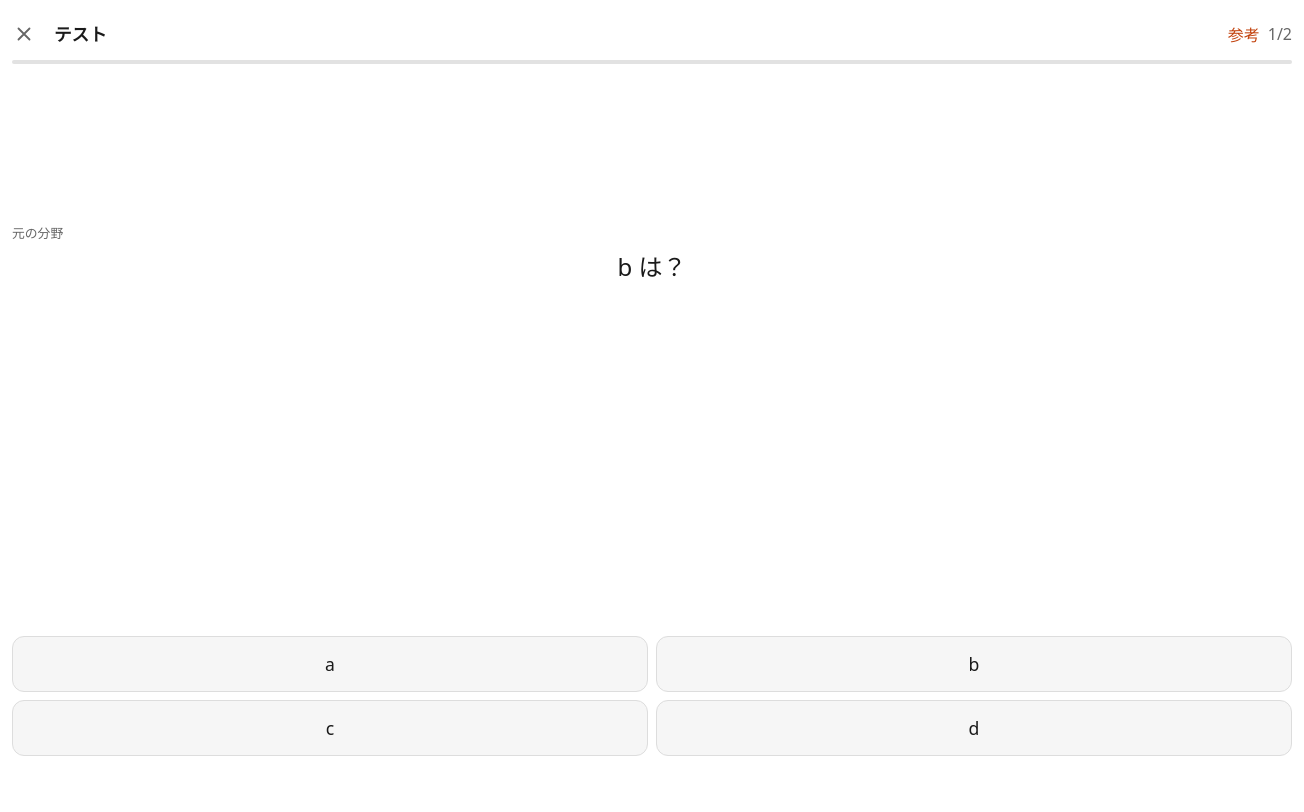
Scenario: Drill › fitSize の分野（今日の復習）は item の数で終わり、記録は recordKey に書く
This screenshot has width=1304, height=812.
Expected: the text "元の分野" is shown, 12,224 -> 63,242
Expected: the button with aria-label "元の分野の参考を見る" is shown, 1228,12 -> 1260,56
Click the button "b" at coordinates (974, 664), box 656,636 -> 1292,692
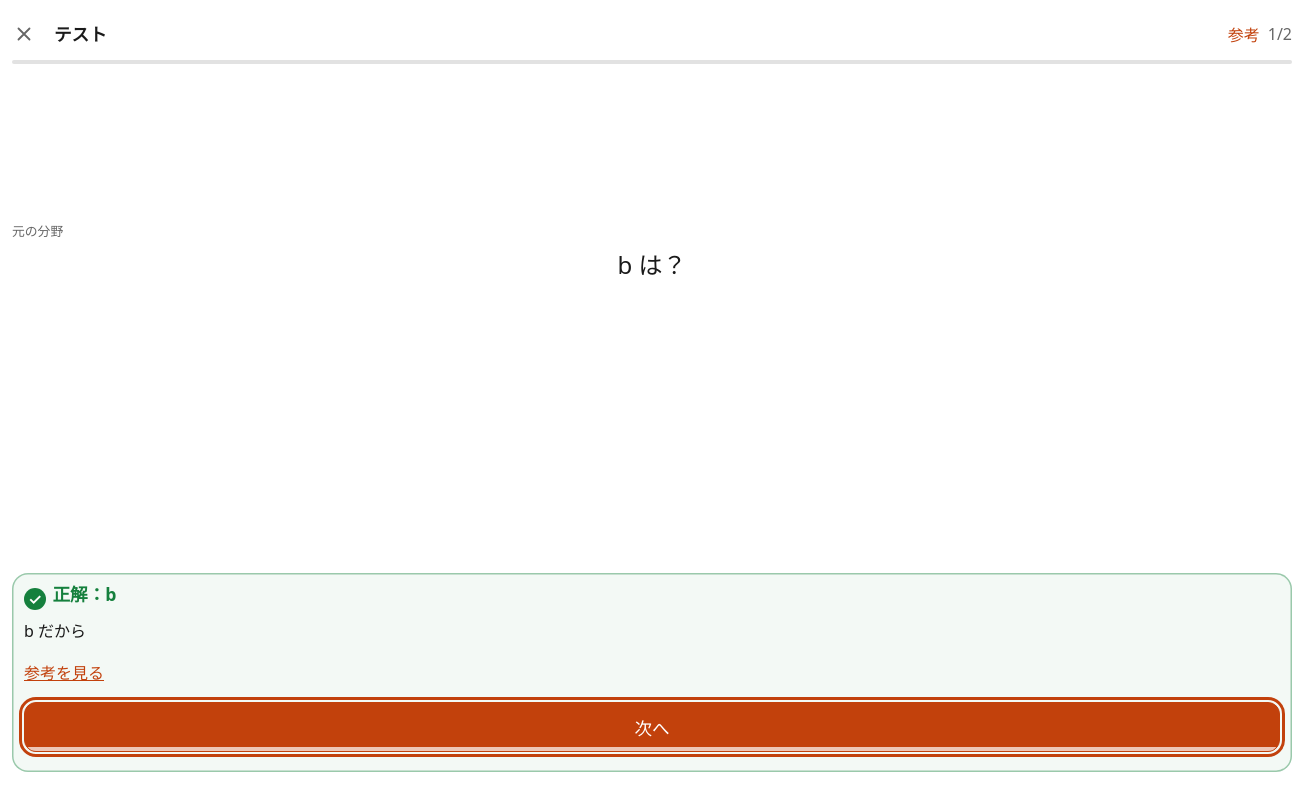
Click the button "次へ" at coordinates (652, 727), box 24,702 -> 1280,752
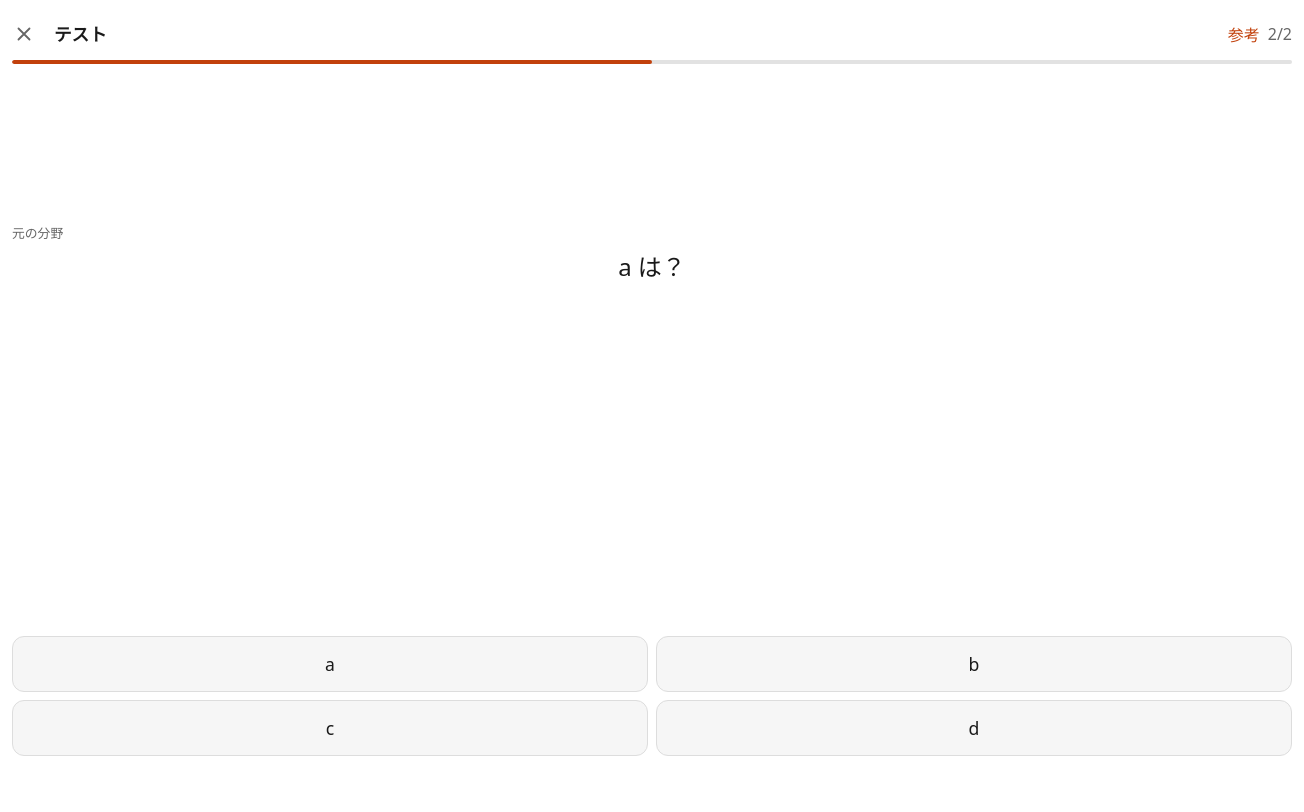
Click the button "a" at coordinates (330, 664), box 12,636 -> 648,692
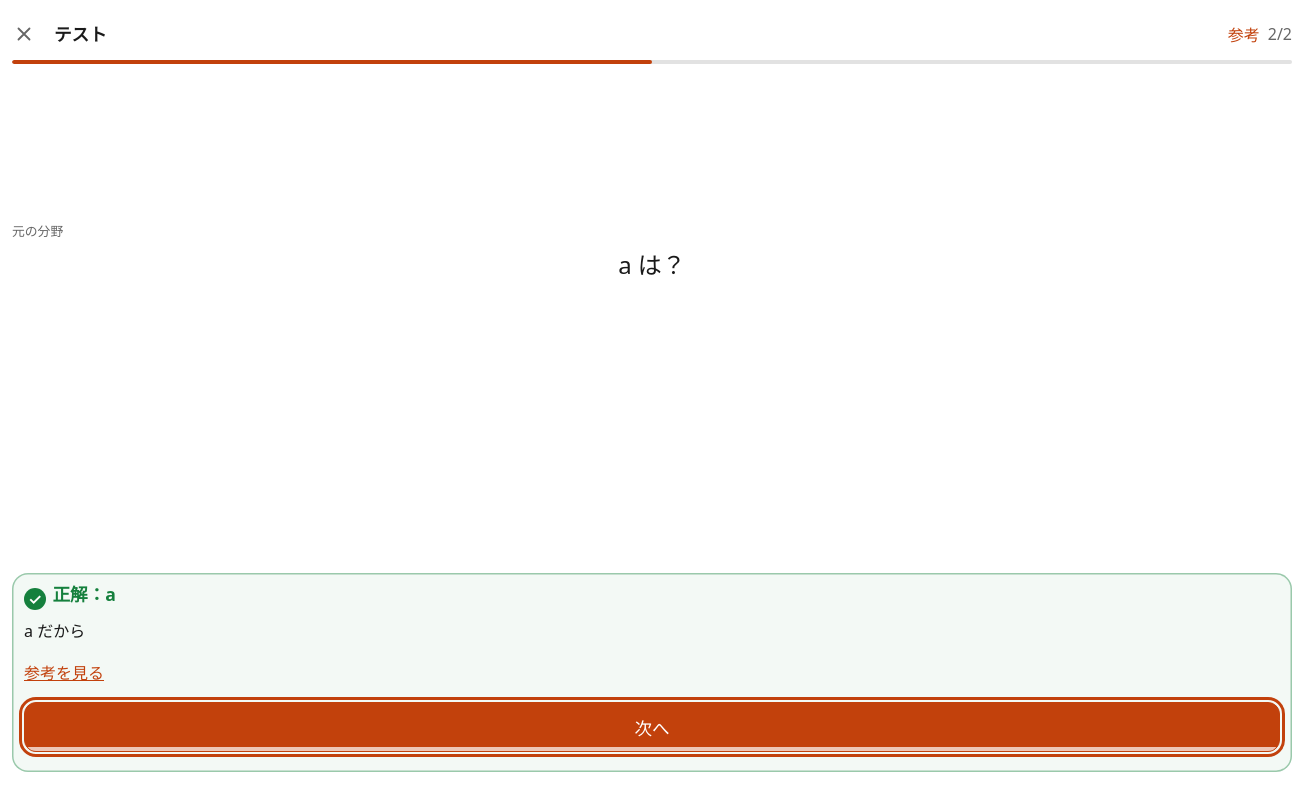
Click the button "次へ" at coordinates (652, 727), box 24,702 -> 1280,752
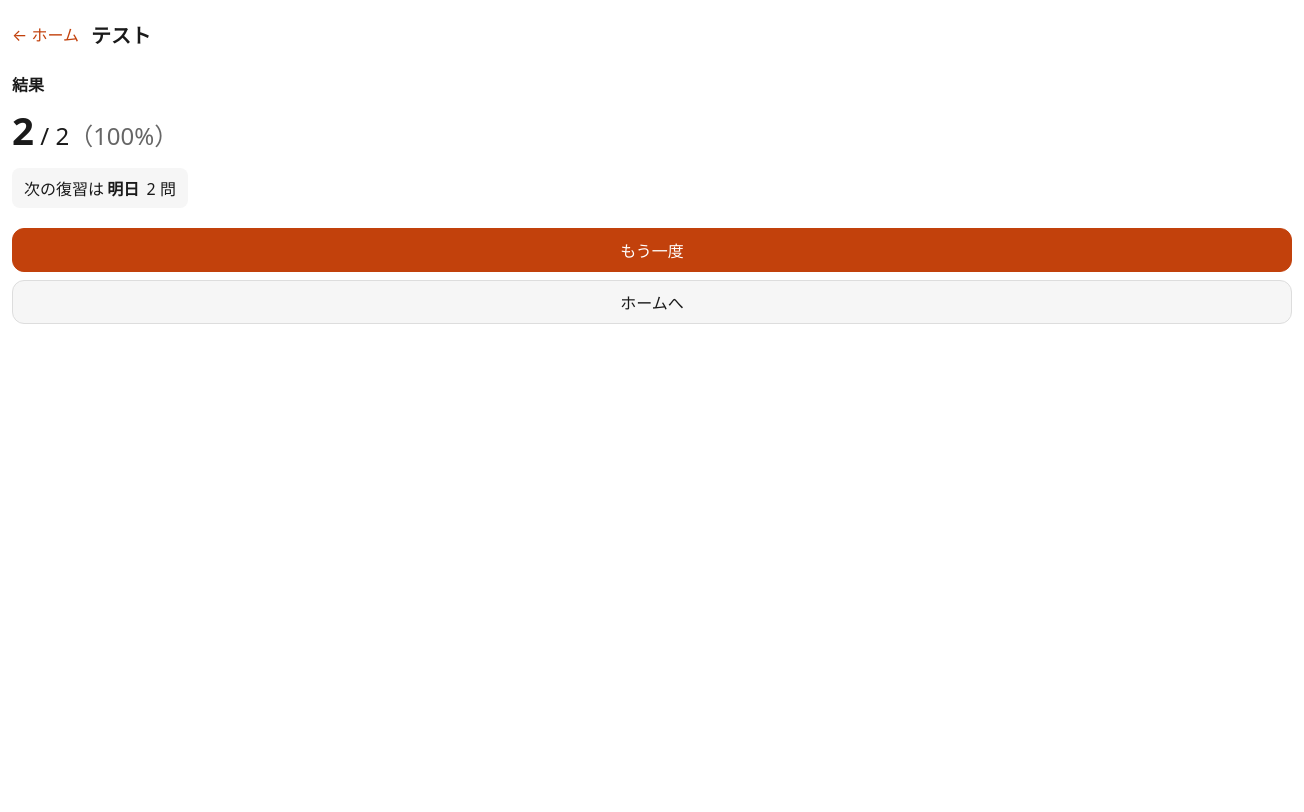
Result: the element showing "2 / 2（100%）" is shown at 12,104 -> 178,156
